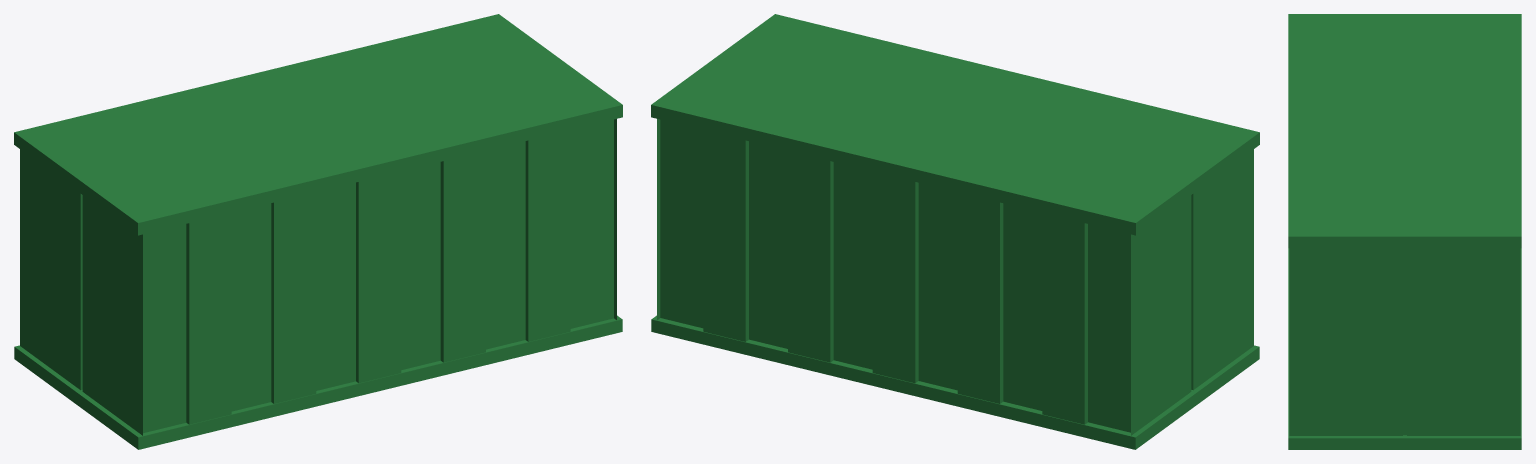
The model's file is GREEN CONTAINER.fbx.
3 views of the same model, side by side, from view 1: azimuth 30°, elevation 25°; view 2: azimuth 150°, elevation 25°; view 3: azimuth 270°, elevation 25° (orthographic). The views are drawn at different scales.
Parts seen in each view (by area): view 1: Cube.096; view 2: Cube.096; view 3: Cube.096.
Part boxes in pixels (<box>): Cube.096: <box>14,14,622,449</box>; Cube.096: <box>651,14,1259,449</box>; Cube.096: <box>1288,14,1521,449</box>.
Size of the model in its own units: 1127 by 504 by 500.
